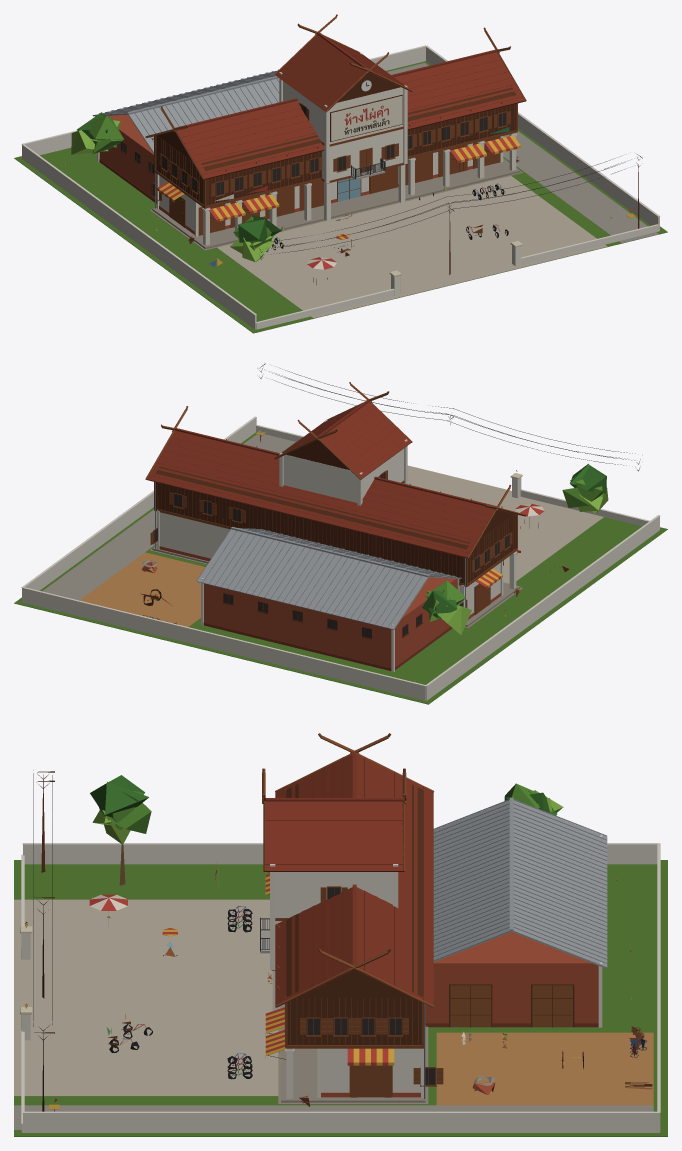
File: store.glb
3 renders of one model, top to bottom at view 1: azimuth 30°, elevation 25°; view 2: azimuth 150°, elevation 25°; view 3: azimuth 270°, elevation 25°, orthographic. The views are drawn at different scales.
Visible parts, largest first — view 1: body, windows; view 2: body, windows; view 3: body, windows.
Part boxes in pixels (left/top/right/bottom): body: left=14, top=14, right=667, bottom=333; windows: left=121, top=105, right=506, bottom=197; body: left=14, top=363, right=667, bottom=704; windows: left=154, top=472, right=509, bottom=637; body: left=14, top=733, right=667, bottom=1136; windows: left=24, top=887, right=435, bottom=1084.
Size of the model in its own units: 47.9 by 17.84 by 47.9.
